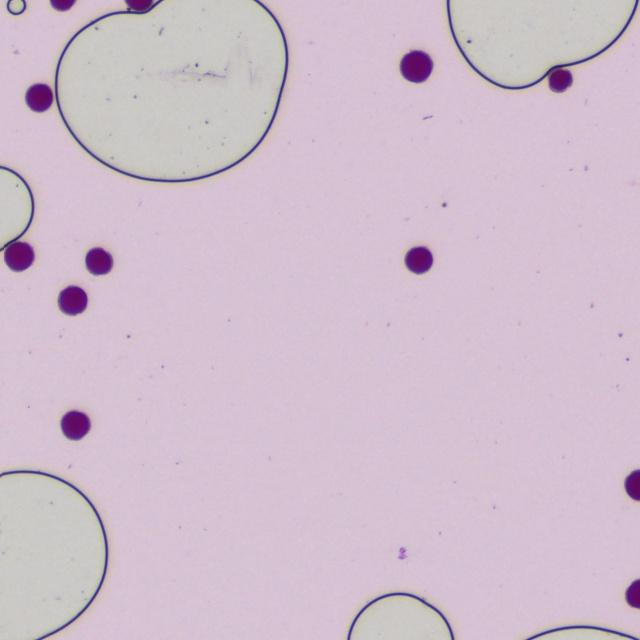viable: (400, 50, 432, 82), (58, 286, 87, 315), (5, 242, 33, 270), (61, 411, 89, 439), (85, 247, 112, 274), (26, 84, 52, 111), (405, 247, 432, 273), (549, 69, 572, 92), (626, 470, 639, 500), (627, 580, 639, 607), (126, 0, 152, 11), (50, 0, 75, 10)
